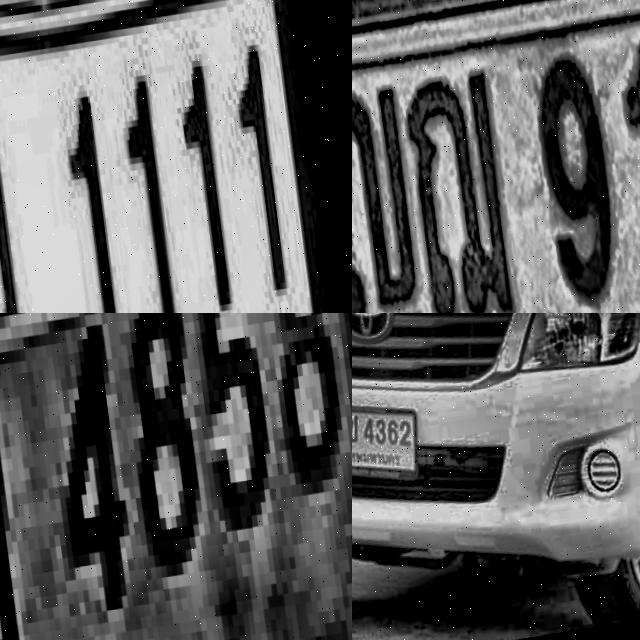license-plate: (0, 313, 352, 640), (0, 0, 352, 313), (352, 0, 640, 313), (352, 385, 427, 503)
